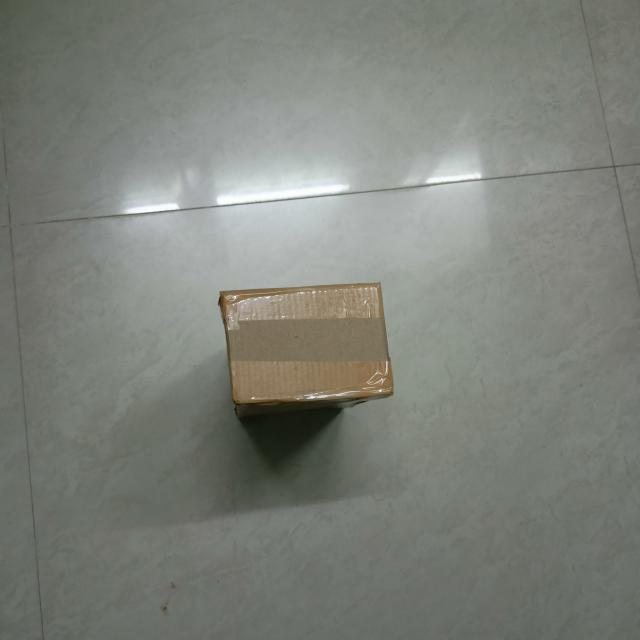box: (217, 279, 389, 400)
